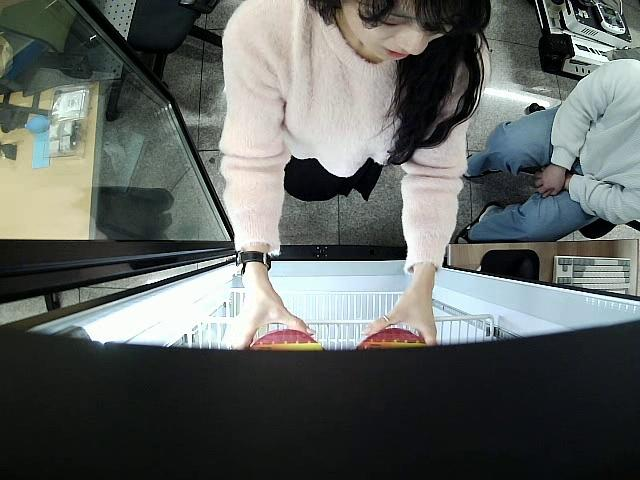00_hand: (223, 275, 314, 349), (362, 282, 444, 347), (528, 163, 572, 199)
05_nuguri_L: (242, 321, 327, 361), (351, 325, 435, 356)
